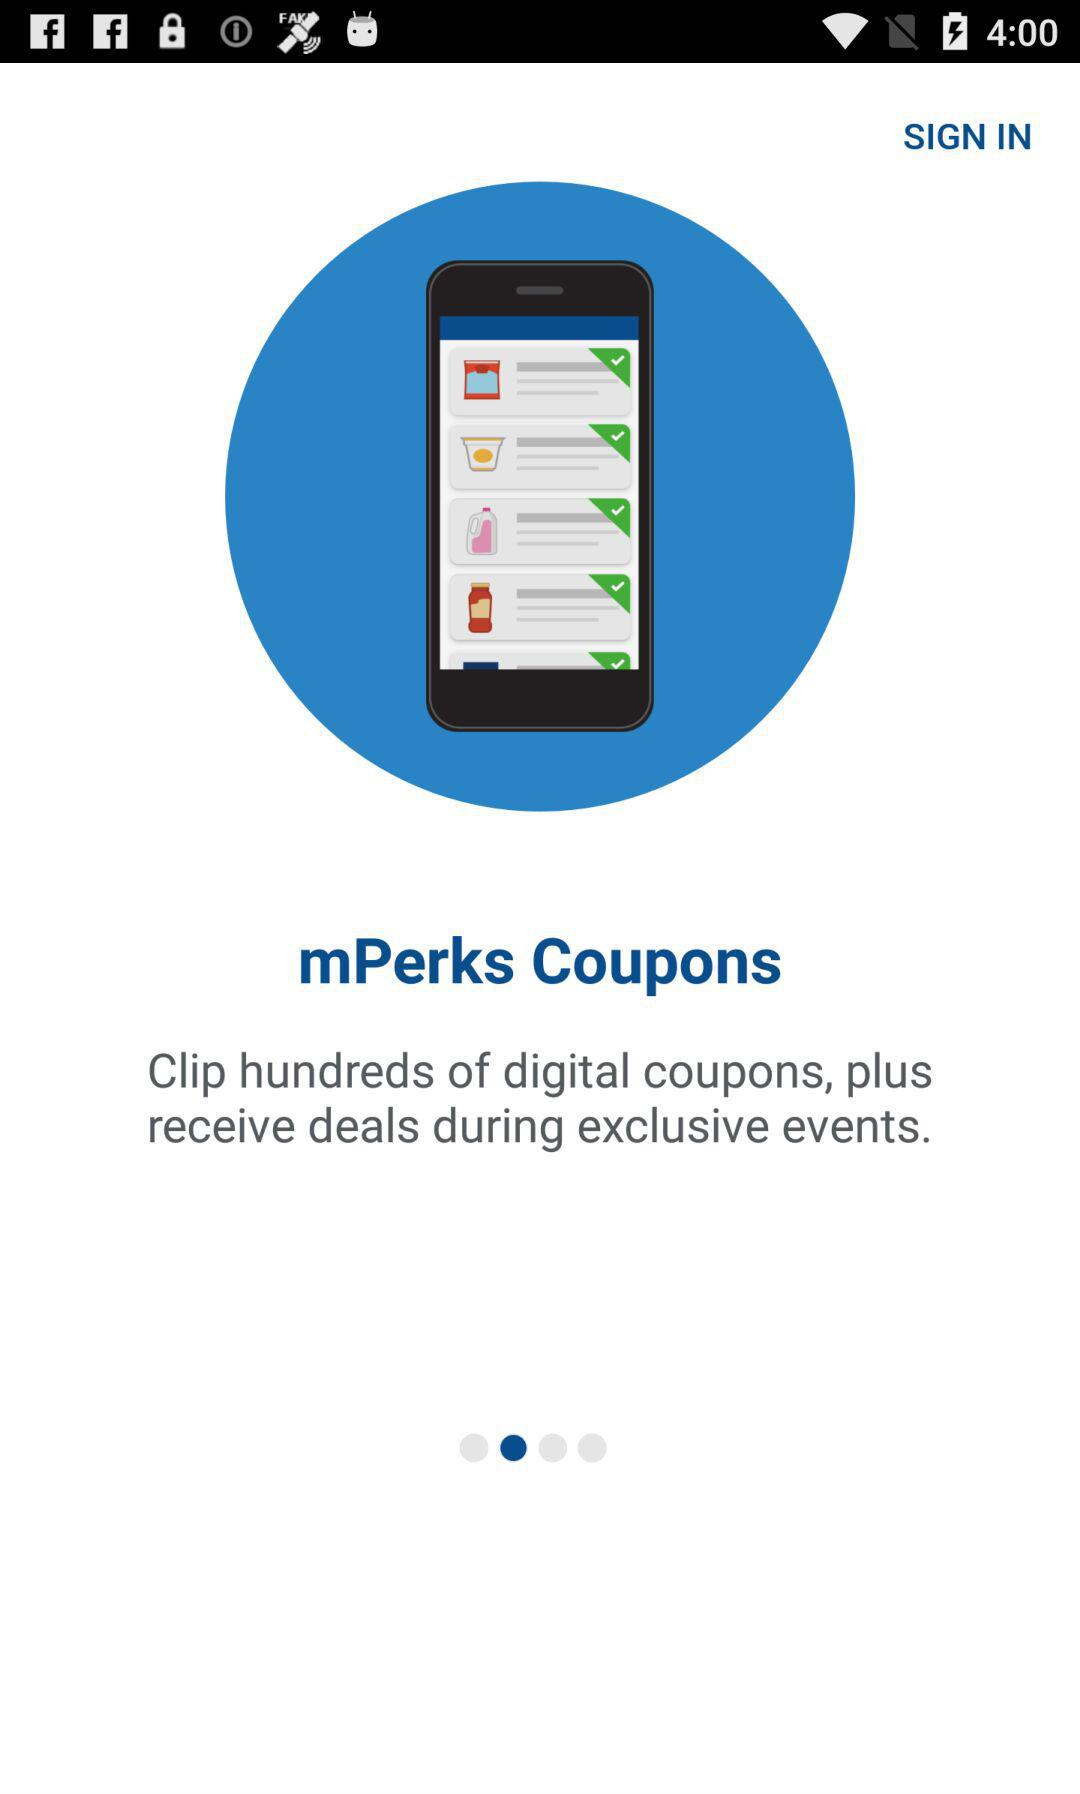Image: (224, 179, 857, 814)
PageIndicator: (457, 1430, 609, 1466)
Text: (147, 1048, 934, 1155), (299, 933, 783, 1000), (902, 119, 1034, 155)
UpperTaskBar: (1, 1, 1080, 64)
